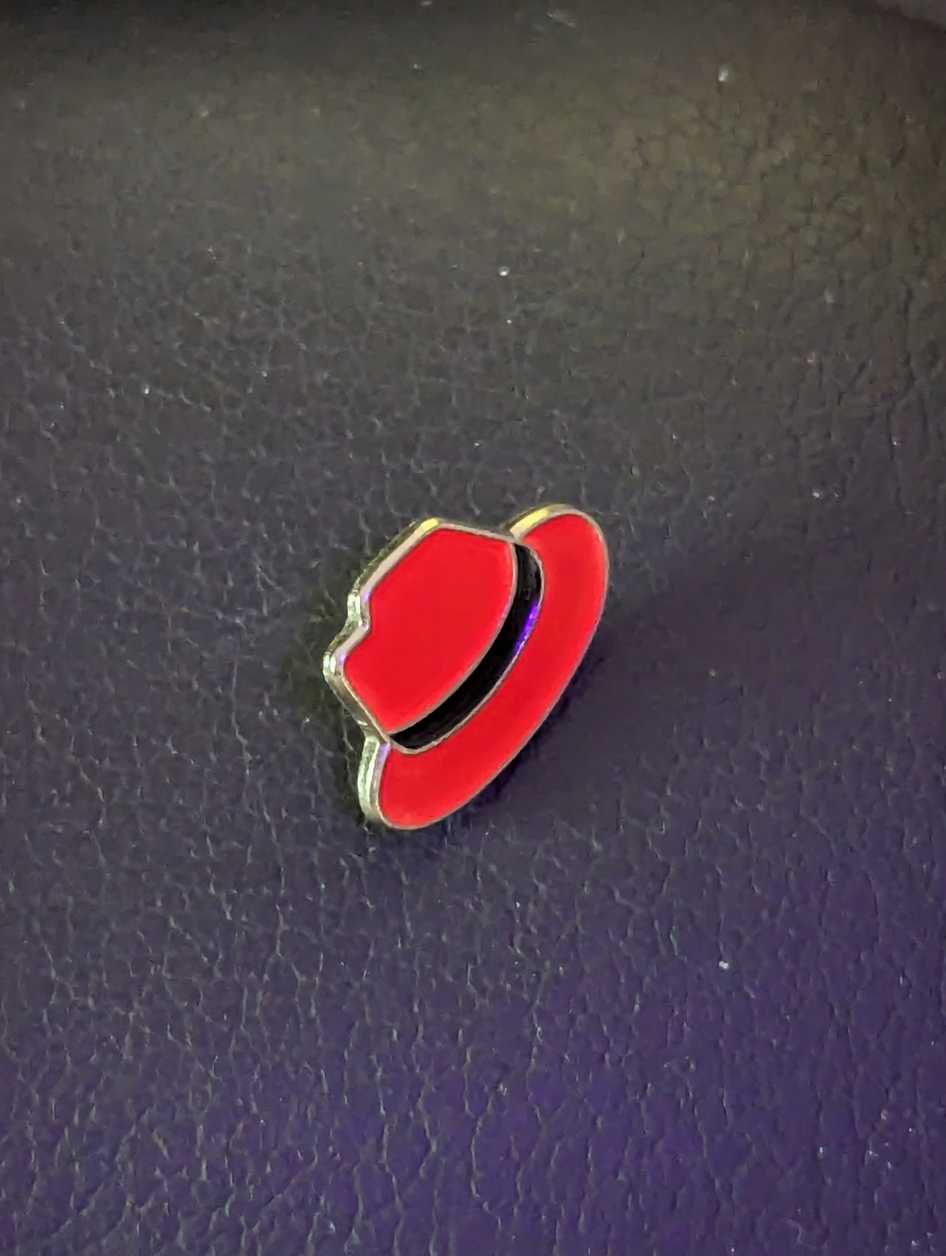Red-Hat: (212, 400, 722, 941)
